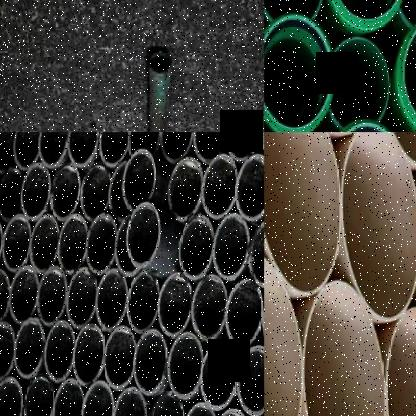pipe: (341, 132, 416, 320), (264, 132, 341, 296), (304, 281, 386, 416), (264, 13, 335, 132), (264, 249, 302, 416), (327, 37, 390, 130), (386, 307, 416, 416), (212, 213, 250, 281), (226, 278, 263, 347), (326, 0, 408, 31), (201, 342, 237, 410), (178, 214, 215, 280), (201, 153, 238, 219), (167, 333, 203, 399), (396, 15, 416, 132), (167, 157, 203, 222), (192, 275, 227, 340), (126, 202, 161, 267), (158, 272, 192, 338), (122, 148, 157, 212), (134, 329, 166, 396), (103, 325, 136, 389), (127, 271, 160, 334), (96, 268, 127, 332), (235, 153, 264, 220), (237, 345, 264, 416), (66, 267, 97, 328), (45, 320, 75, 383), (58, 213, 88, 275), (86, 213, 116, 275), (74, 324, 104, 385), (14, 318, 44, 379), (9, 265, 39, 324), (30, 213, 59, 274), (50, 163, 80, 220), (38, 266, 66, 326), (115, 214, 142, 276), (80, 166, 110, 221), (2, 214, 30, 272), (21, 164, 50, 219), (0, 166, 24, 222), (108, 161, 130, 222), (23, 373, 54, 416), (264, 0, 324, 22), (53, 377, 84, 416), (82, 380, 114, 416), (193, 132, 228, 163), (225, 132, 262, 161), (14, 132, 41, 170), (68, 132, 99, 165), (99, 132, 129, 166), (160, 132, 194, 162), (113, 386, 147, 416), (38, 132, 67, 166), (250, 218, 264, 288), (0, 376, 24, 416), (149, 390, 184, 416), (0, 321, 15, 381), (127, 132, 160, 155), (0, 132, 18, 174), (149, 50, 171, 74), (0, 268, 9, 326), (182, 402, 216, 416), (212, 407, 250, 416), (0, 216, 2, 274)
